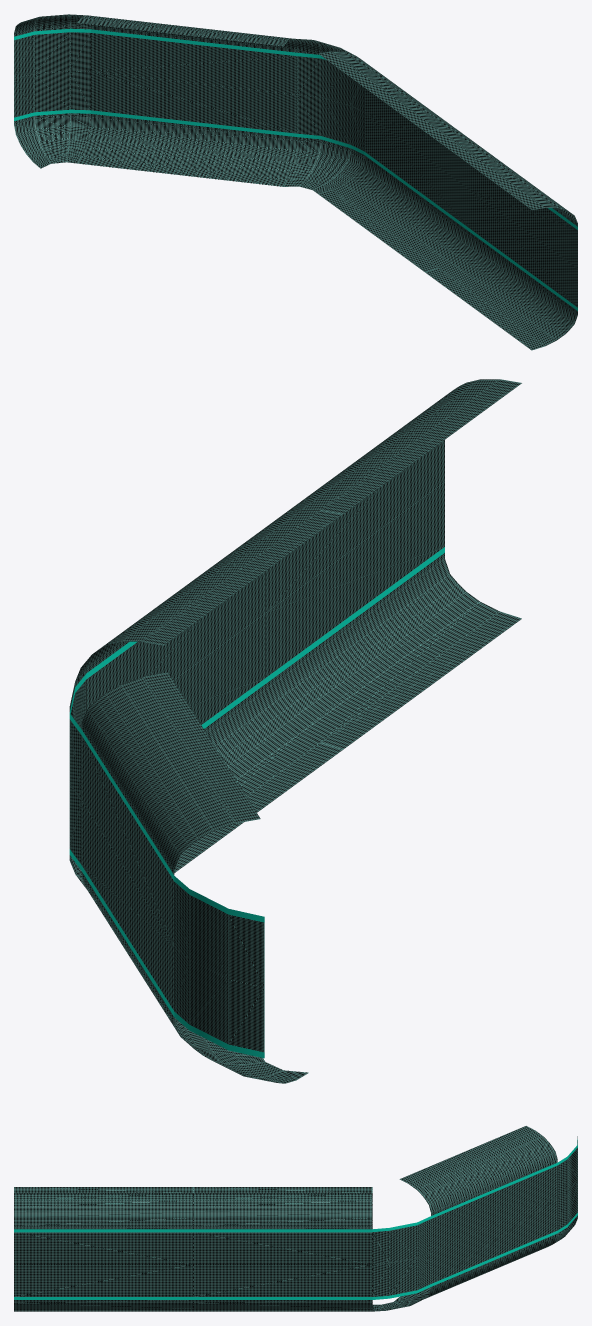
Rendered from ramp_section.fbx.
3 renders of one model, top to bottom at view 1: azimuth 30°, elevation 25°; view 2: azimuth 150°, elevation 25°; view 3: azimuth 270°, elevation 25°, orthographic. The views are drawn at different scales.
Parts seen in each view (by area): view 1: Ramp_Straight.001, Ramp_Straight.002, Ramp_Straight, Wall_Straight.001, Wall_Straight.004, Wall_Straight, Wall_Straight.002, Ramp_Straight.004, Ramp_Turn.001, Ramp_Turn, Wall_Straight.005, Ramp_Straight.005 (+8 smaller); view 2: Ramp_Straight.002, Ramp_Straight.004, Wall_Straight.002, Ramp_Straight, Ramp_Straight.003, Ramp_Straight.005, Wall_Straight.005, Wall_Straight.003, Wall_Straight.001, Wall_Straight.004, Wall_Turn.001, Wall_Turn.003 (+4 smaller); view 3: Ramp_Straight.003, Ramp_Straight.005, Ramp_Straight.004, Wall_Straight, Wall_Straight.003, Wall_Straight.005, Wall_Straight.002, Wall_Straight.001, Wall_Straight.004, Ramp_Straight, Ramp_Straight.002, Wall_Turn (+5 smaller).
Part boxes in pixels (left/top/right/bottom): Ramp_Straight.001: left=77, top=110, right=297, bottom=186; Ramp_Straight.002: left=425, top=230, right=577, bottom=350; Ramp_Straight: left=318, top=151, right=470, bottom=272; Wall_Straight.001: left=91, top=71, right=297, bottom=133; Wall_Straight.004: left=91, top=33, right=297, bottom=94; Wall_Straight: left=364, top=113, right=470, bottom=228; Wall_Straight.002: left=471, top=191, right=577, bottom=307; Ramp_Straight.004: left=77, top=15, right=297, bottom=55; Ramp_Turn.001: left=14, top=109, right=90, bottom=168; Ramp_Turn: left=283, top=133, right=364, bottom=193; Wall_Straight.005: left=471, top=166, right=577, bottom=268; Ramp_Straight.005: left=425, top=129, right=577, bottom=229; Ramp_Straight.002: left=265, top=547, right=521, bottom=749; Ramp_Straight.004: left=81, top=672, right=260, bottom=880; Wall_Straight.002: left=265, top=482, right=444, bottom=677; Ramp_Straight: left=174, top=678, right=342, bottom=872; Ramp_Straight.003: left=86, top=510, right=342, bottom=678; Ramp_Straight.005: left=275, top=379, right=521, bottom=520; Wall_Straight.005: left=265, top=440, right=444, bottom=612; Wall_Straight.003: left=86, top=571, right=265, bottom=710; Wall_Straight.001: left=81, top=801, right=174, bottom=1010; Wall_Straight.004: left=81, top=736, right=174, bottom=945; Wall_Turn.001: left=174, top=947, right=264, bottom=1052; Wall_Turn.003: left=174, top=882, right=264, bottom=987; Ramp_Straight.003: left=193, top=1187, right=372, bottom=1232; Ramp_Straight.005: left=14, top=1187, right=193, bottom=1232; Ramp_Straight.004: left=399, top=1126, right=557, bottom=1218; Wall_Straight: left=193, top=1264, right=372, bottom=1296; Wall_Straight.003: left=193, top=1232, right=372, bottom=1264; Wall_Straight.005: left=14, top=1232, right=193, bottom=1264; Wall_Straight.002: left=14, top=1264, right=193, bottom=1296; Wall_Straight.001: left=431, top=1198, right=557, bottom=1283; Wall_Straight.004: left=431, top=1165, right=557, bottom=1251; Ramp_Straight: left=193, top=1297, right=372, bottom=1311; Ramp_Straight.002: left=14, top=1297, right=193, bottom=1311; Wall_Turn: left=372, top=1251, right=430, bottom=1296.
Size of the model in its own units: 123 by 72.5 by 315.
